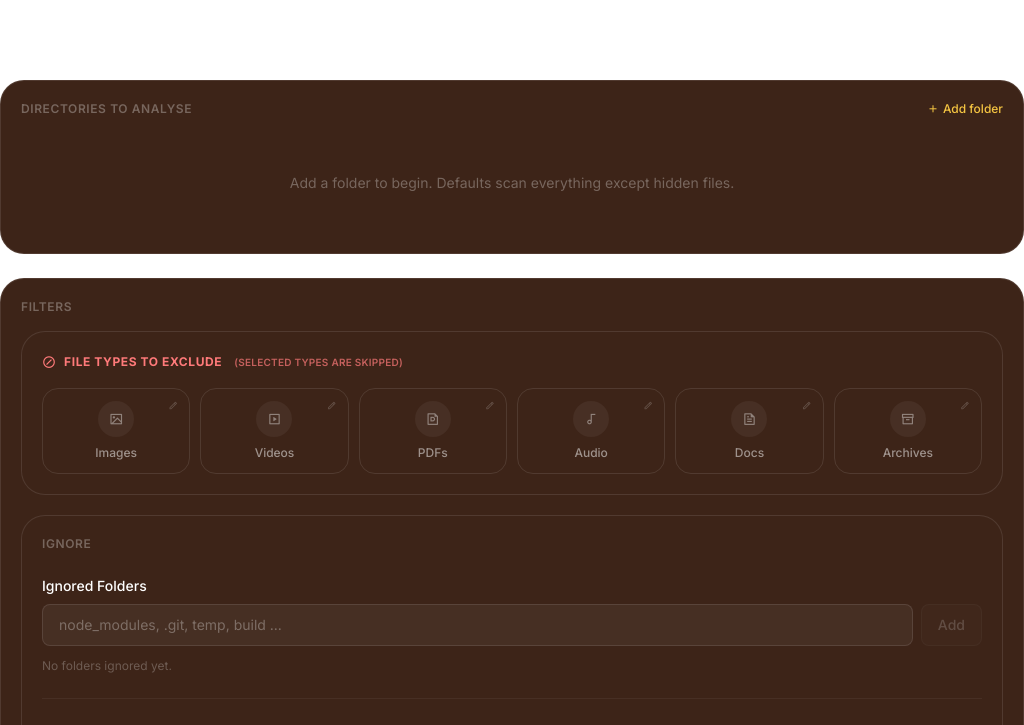
it: AnalysisView › does not produce NaN average when report is empty
Click the button "Add folder". click: coordinates (965, 109)
box: [927, 101, 1003, 117]
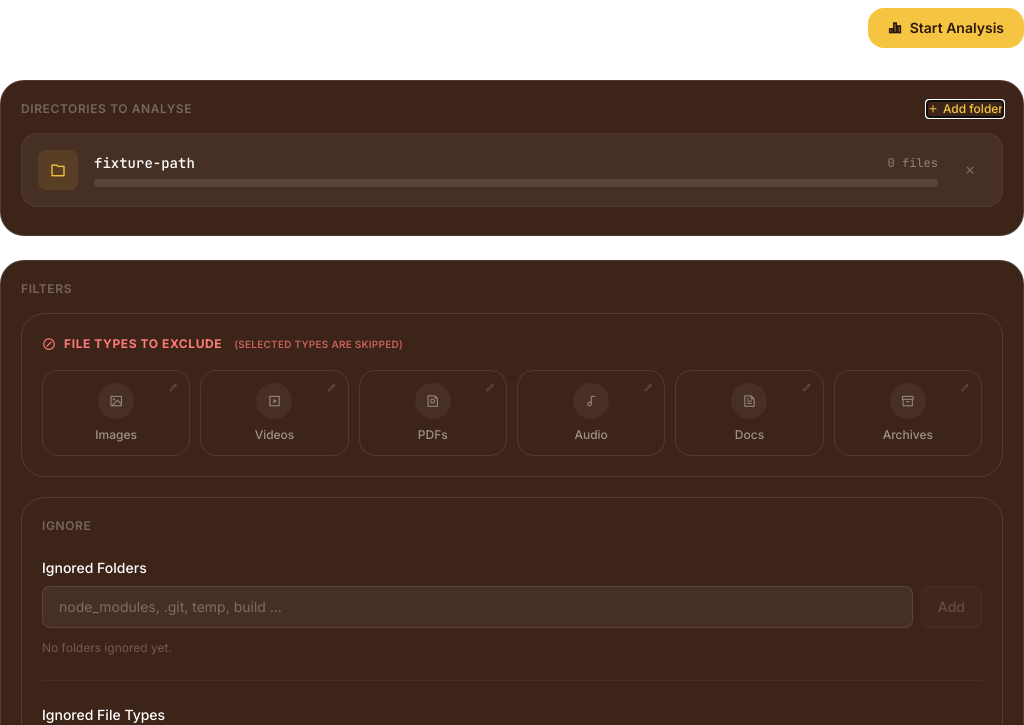
Click the button "Start Analysis". click: coordinates (946, 28)
box: [868, 8, 1023, 48]
(page scrolled)
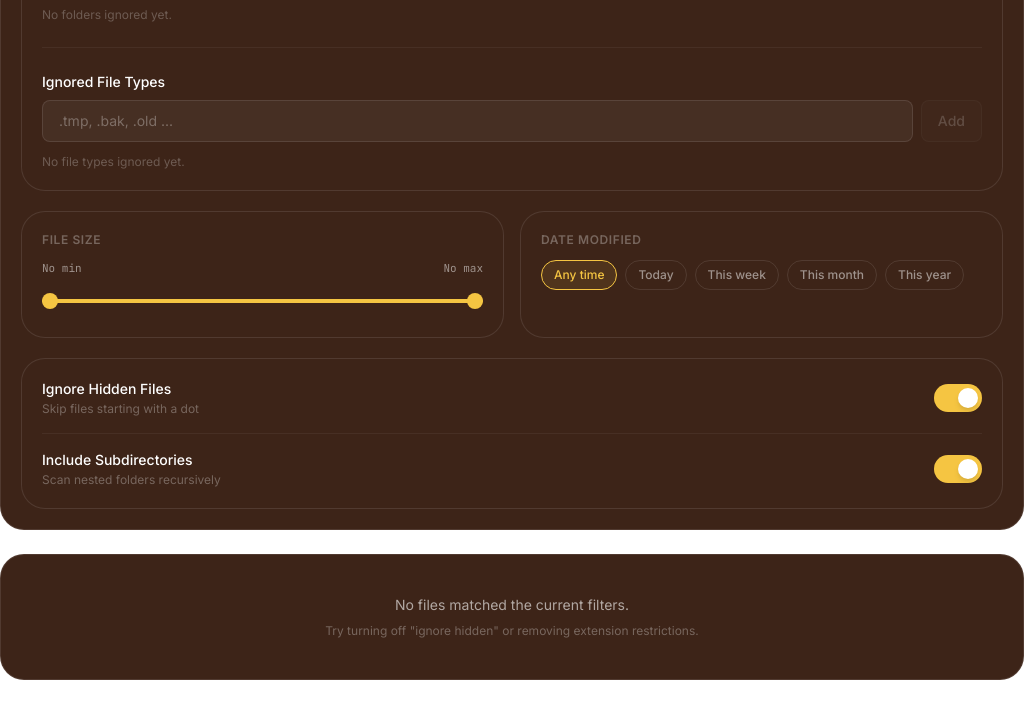
Expected: the text "No files matched the current filters." is shown, [395, 596, 629, 612]
